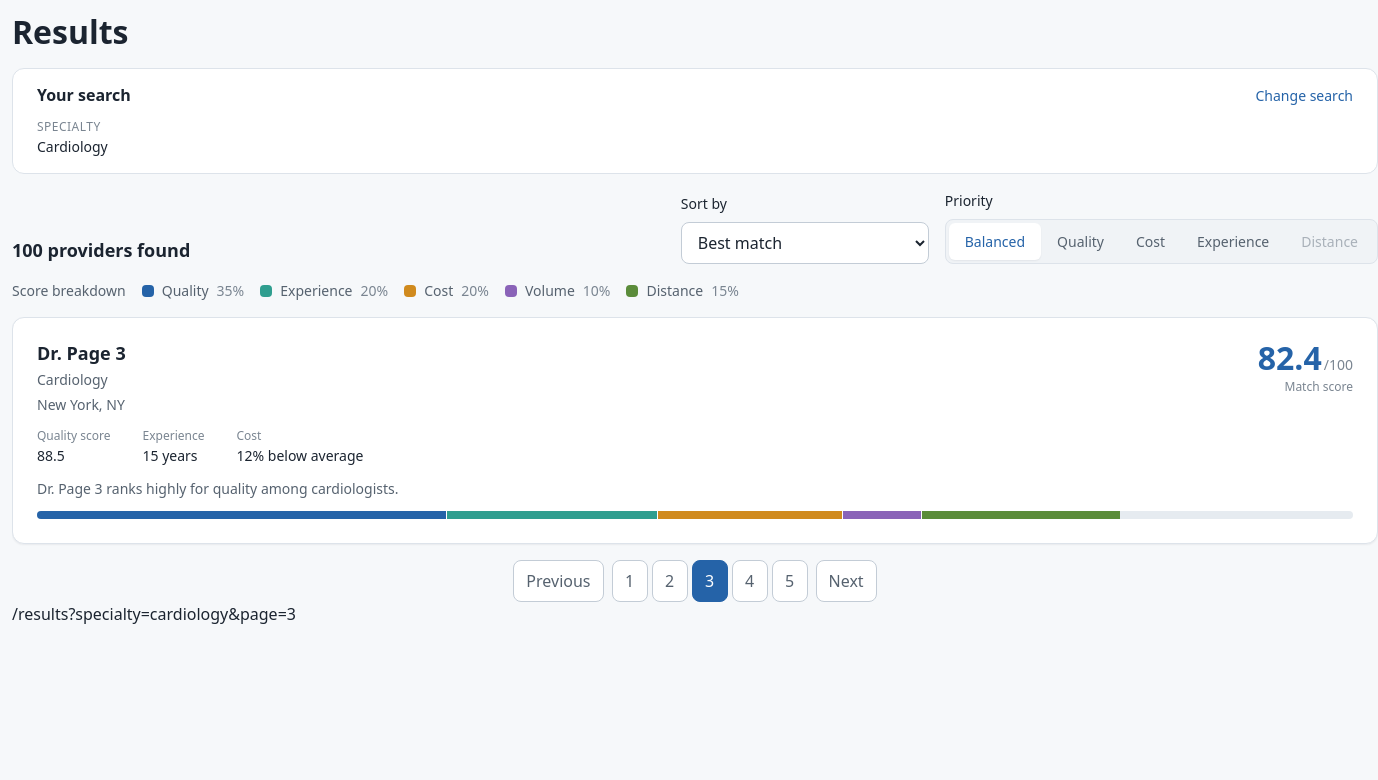
it: ResultsPage › changes the sort in the URL, back to page 1, and searches again
The width and height of the screenshot is (1378, 780).
Expected: the element "Dr. Page 3" is shown, [12, 317, 1377, 544]
Select "Quality" in the dropdown labelled "Sort by": [805, 243] box [681, 222, 929, 264]
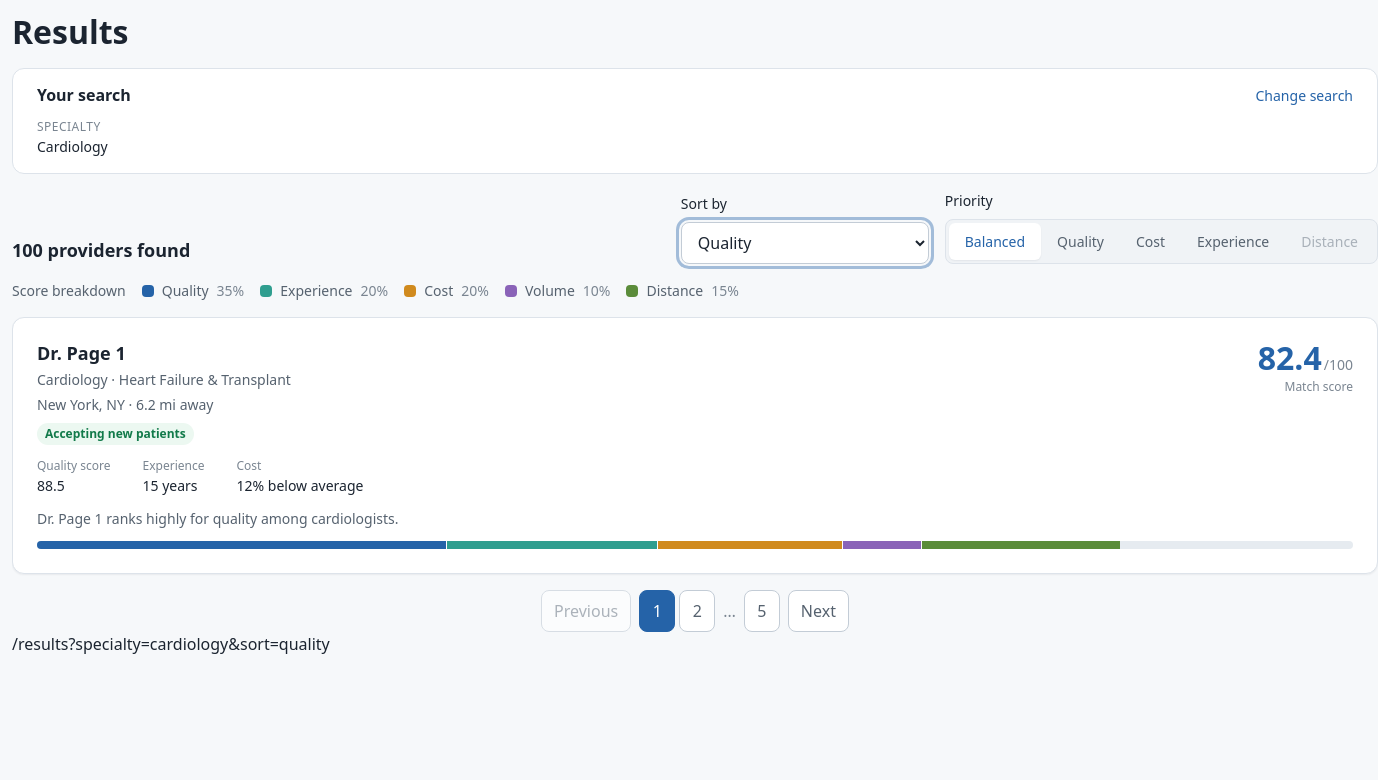
Expected: the element "Dr. Page 1" is shown, [12, 317, 1377, 574]
